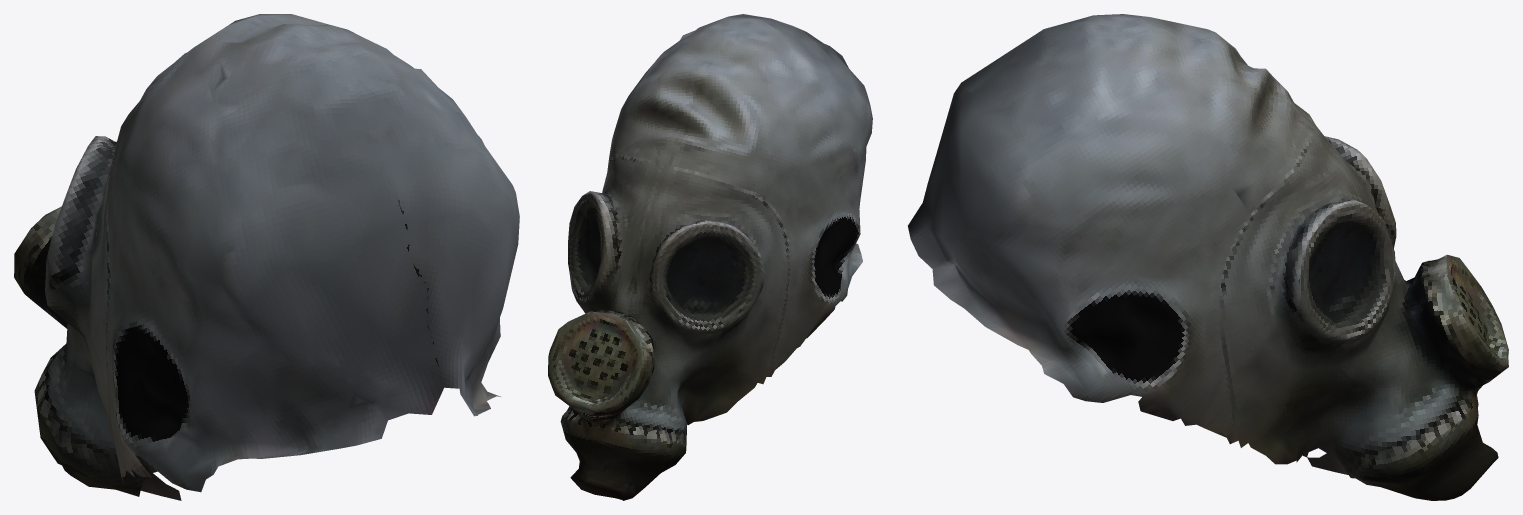
File: goggles.glb
3 views of the same model, side by side, from view 1: azimuth 30°, elevation 25°; view 2: azimuth 150°, elevation 25°; view 3: azimuth 270°, elevation 25° (orthographic). The views are drawn at different scales.
Size of the model in its own units: 2.74 by 4.51 by 5.37.
Materials: 1 (1 with a texture image).
